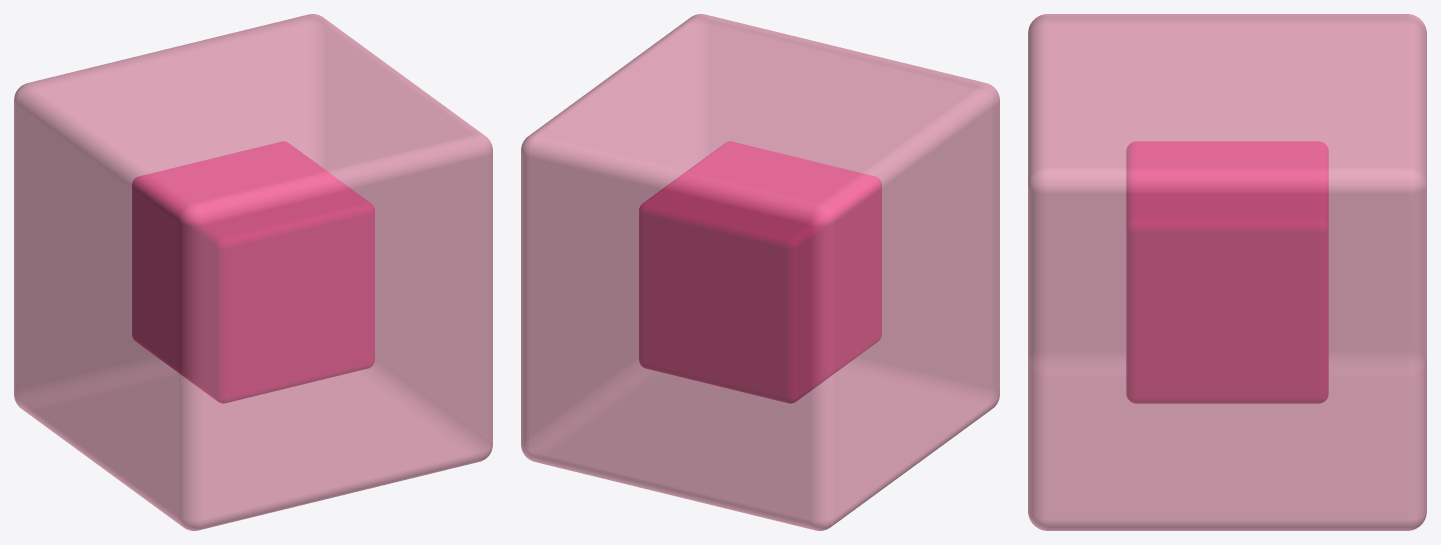
3 views of the same model, side by side, from view 1: azimuth 30°, elevation 25°; view 2: azimuth 150°, elevation 25°; view 3: azimuth 270°, elevation 25° (orthographic). The views are drawn at different scales.
Visible parts, largest first — view 1: Cube, Cube.001; view 2: Cube, Cube.001; view 3: Cube, Cube.001.
Part boxes in pixels (left/top/right/bottom): Cube: left=14, top=14, right=492, bottom=530; Cube.001: left=132, top=141, right=374, bottom=403; Cube: left=521, top=14, right=999, bottom=530; Cube.001: left=639, top=141, right=881, bottom=403; Cube: left=1028, top=14, right=1426, bottom=530; Cube.001: left=1126, top=141, right=1328, bottom=403.
Size of the model in its own units: 4.66 by 4.66 by 4.66.
